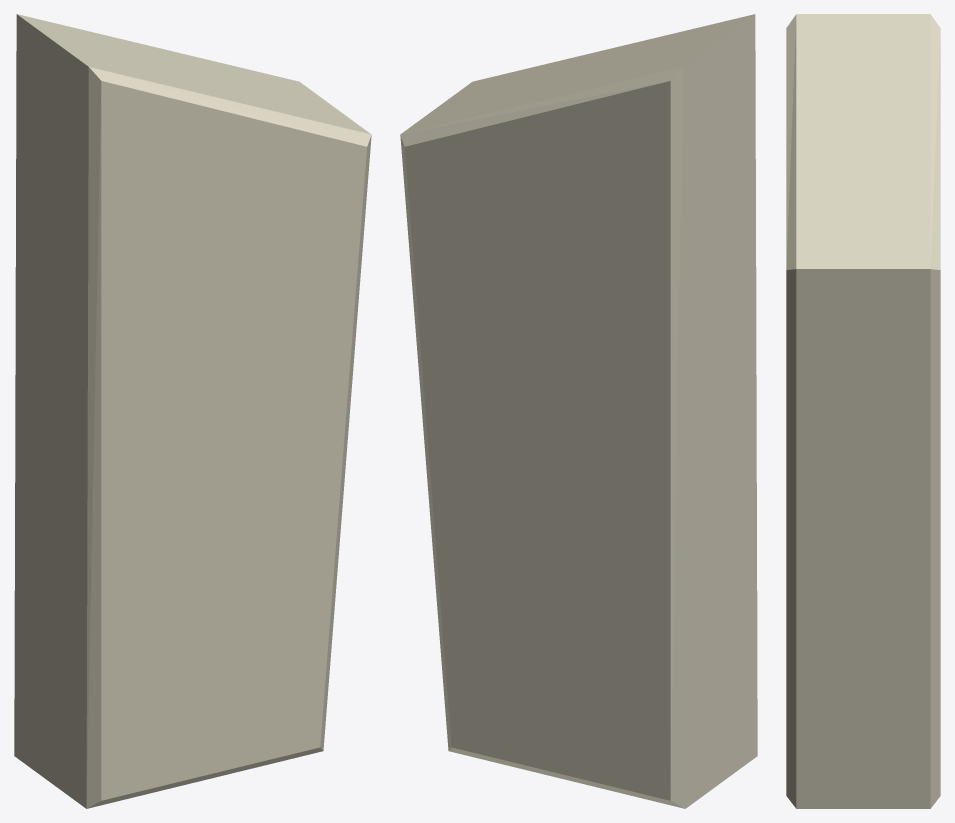
Rendered from primitive-crafting-workshop-stone-chisel-6f3ad718__21533.glb.
The picture shows the model from 3 angles, left to right: view 1: azimuth 30°, elevation 25°; view 2: azimuth 150°, elevation 25°; view 3: azimuth 270°, elevation 25°; orthographic projection. The views are drawn at different scales.
Parts seen in each view (by area): view 1: stone-chisel; view 2: stone-chisel; view 3: stone-chisel.
Part boxes in pixels (left/top/right/bottom): stone-chisel: left=14, top=14, right=371, bottom=808; stone-chisel: left=400, top=14, right=757, bottom=808; stone-chisel: left=786, top=14, right=940, bottom=808.
Bounding box in the file's own units: 0.0912 × 0.2266 × 0.046.
